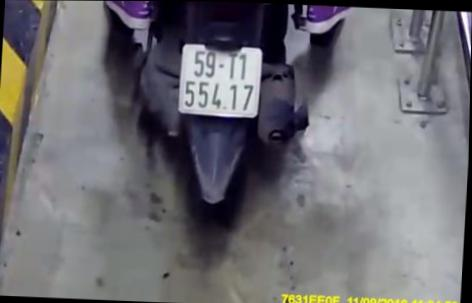LP: (180, 41, 264, 118)
